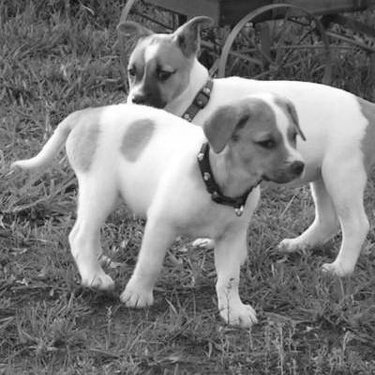dog: (8, 95, 308, 338), (114, 9, 370, 277)
